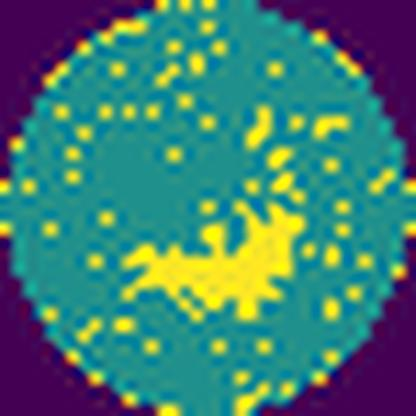Loc: (124, 195, 310, 326)
